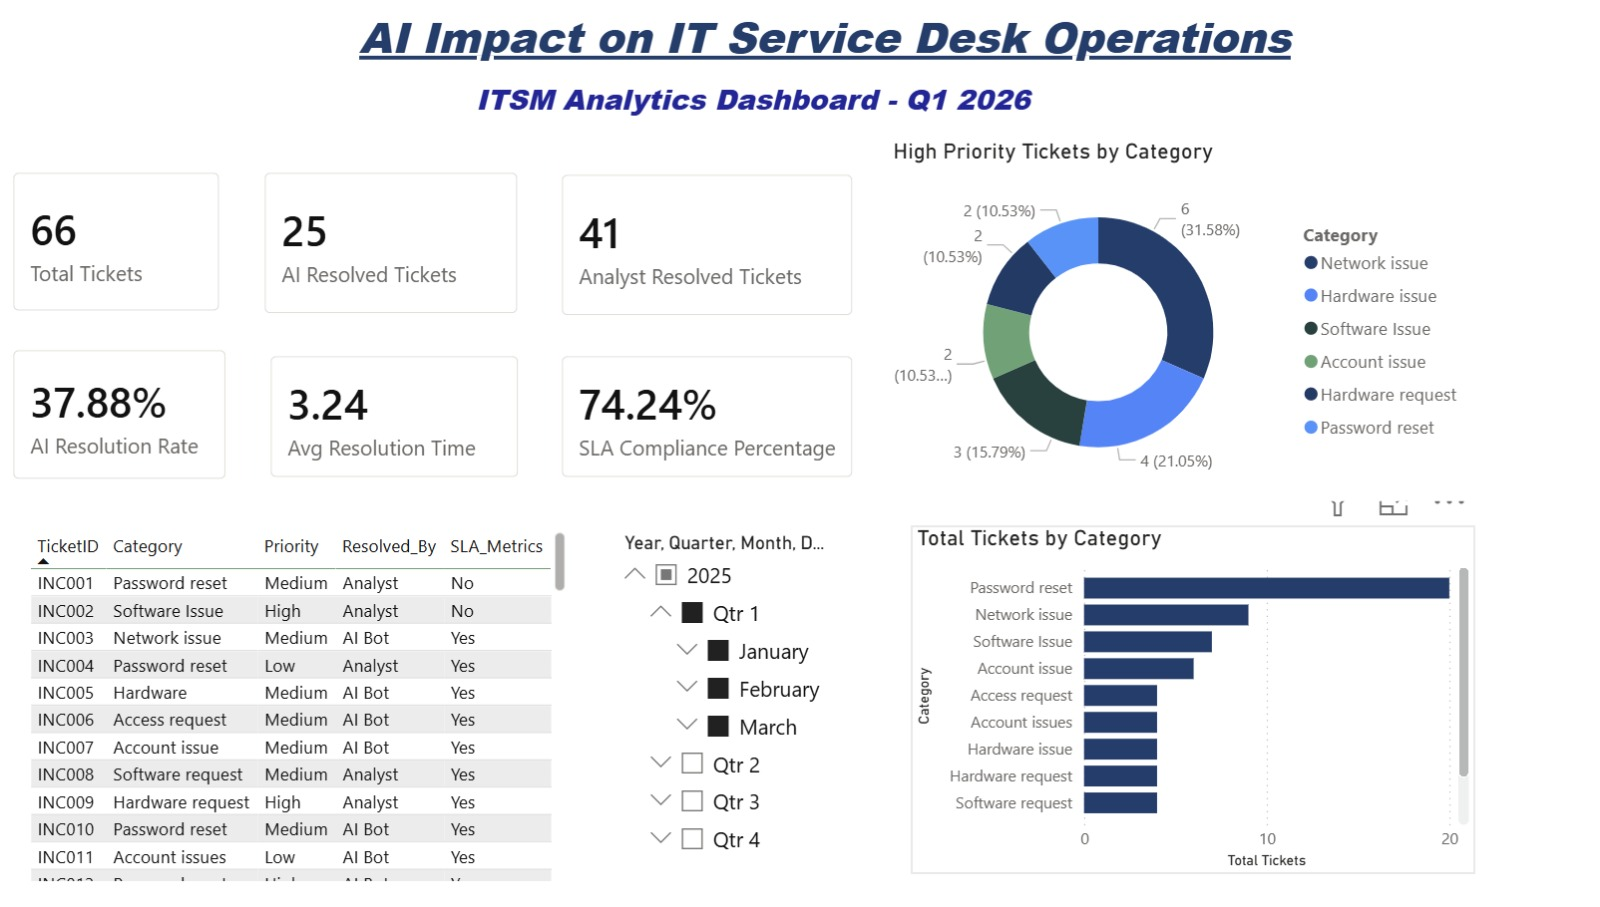

This screenshot's page, from the dashboard's own definition file:
{"tool":"powerbi","page":{"name":"Page 1","canvas":[1280,720],"ordinal":0},"visuals":[{"type":"cardVisual","fields":{"Data":["Tickets.Total Tickets"]},"box":[11,131,181.5,142],"z":0},{"type":"cardVisual","fields":{"Data":["Tickets.AI Resolved Tickets"]},"box":[192.6,131,228.9,142],"z":1000},{"type":"cardVisual","fields":{"Data":["Tickets.Analyst Resolved Tickets"]},"box":[404,140.5,236.7,132.6],"z":2000},{"type":"cardVisual","fields":{"Data":["Tickets.AI Resolution Rate"]},"box":[0,268.3,217.8,132.6],"z":3000},{"type":"cardVisual","fields":{"Data":["Tickets.Avg Resolution Time"]},"box":[197.3,273,224.1,127.8],"z":4000},{"type":"cardVisual","fields":{"Data":["Tickets.SLA Compliance Percentage"]},"box":[421.4,284.1,257.3,127.8],"z":5000},{"type":"barChart","fields":{"Y":["Tickets.Total Tickets"],"Category":["Tickets.Category"]},"box":[688.1,430.9,432.5,266.7],"z":6000},{"type":"donutChart","fields":{"Y":["Tickets.High Priority Tickets"],"Category":["Tickets.Category"]},"box":[678.7,132.6,451.4,279.4],"z":7000},{"type":"slicer","fields":{"Values":["Tickets.Date.Variation.Date Hierarchy.Year","Tickets.Date.Variation.Date Hierarchy.Quarter","Tickets.Date.Variation.Date Hierarchy.Month","Tickets.Date.Variation.Date Hierarchy.Day"]},"box":[456.1,419.8,189.4,277.8],"z":8000},{"type":"tableEx","fields":{"Values":["Tickets.TicketID","Tickets.Category","Tickets.Priority","Tickets.Resolved_By","Tickets.SLA_Metrics"]},"box":[25.3,419.8,421.4,277.8],"z":9000},{"type":"textbox","box":[26.8,22.1,1103.2,91.5],"z":10000}]}

Visuals, with their boxes in screenshot pixels (x1, y1, x2, y2), scaled from the page's 1280x720 canvas onto the 1600x907 screenshot:
cardVisual - Tickets.Total Tickets: 14:165:241:344
cardVisual - Tickets.AI Resolved Tickets: 241:165:527:344
cardVisual - Tickets.Analyst Resolved Tickets: 505:177:801:344
cardVisual - Tickets.AI Resolution Rate: 0:338:272:505
cardVisual - Tickets.Avg Resolution Time: 247:344:527:505
cardVisual - Tickets.SLA Compliance Percentage: 527:358:848:519
barChart - Tickets.Total Tickets x Tickets.Category: 860:543:1401:879
donutChart - Tickets.High Priority Tickets x Tickets.Category: 848:167:1413:519
slicer - Tickets.Date.Variation.Date Hierarchy.Year x Tickets.Date.Variation.Date Hierarchy.Quarter: 570:529:807:879
tableEx - Tickets.TicketID x Tickets.Category: 32:529:558:879
textbox: 34:28:1412:143
